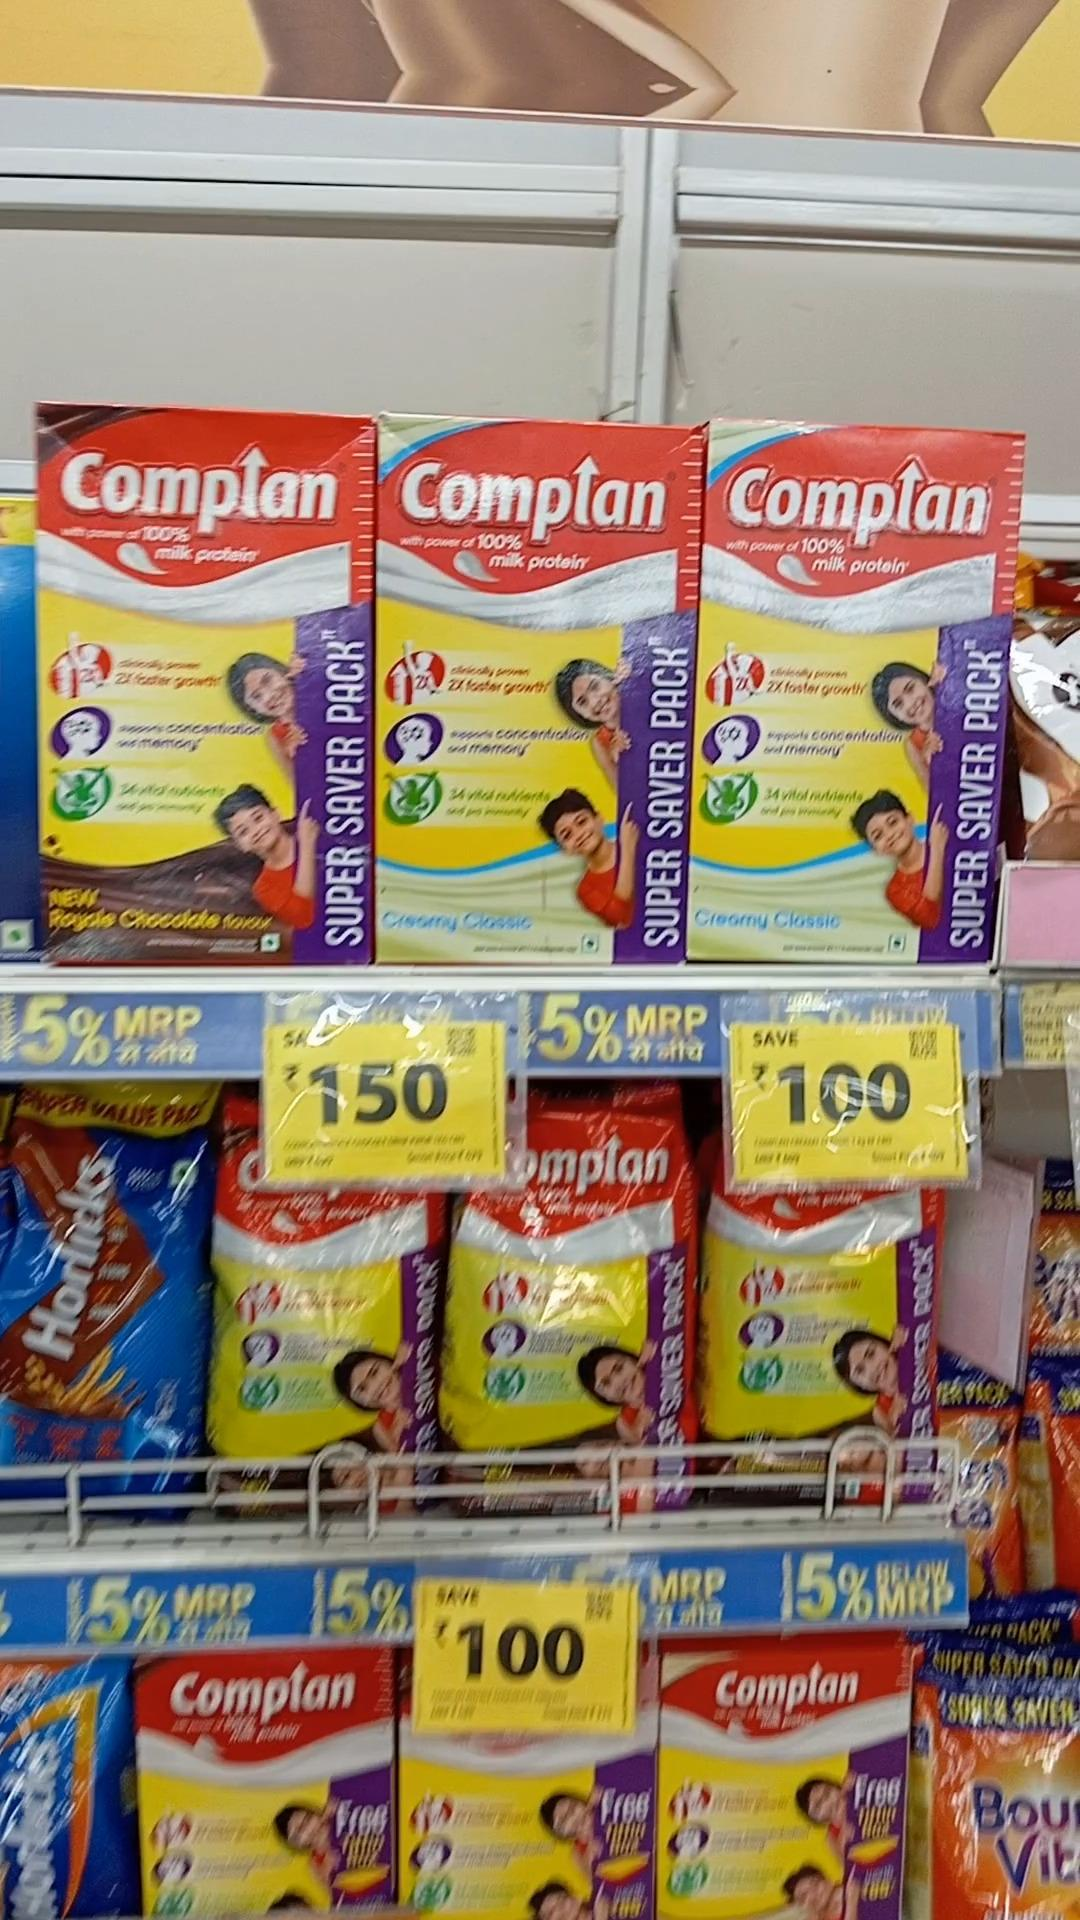COMPLAN_CHOCOLATE_1_KG_PACK: (40, 405, 378, 968)
COMPLAN_RC_POUCH_700_GMS_12: (443, 1171, 692, 1516), (700, 1192, 938, 1505), (214, 1176, 429, 1516)
HORLICK_CHOCOLATE_750_G_POUCH: (0, 1084, 210, 1522)
